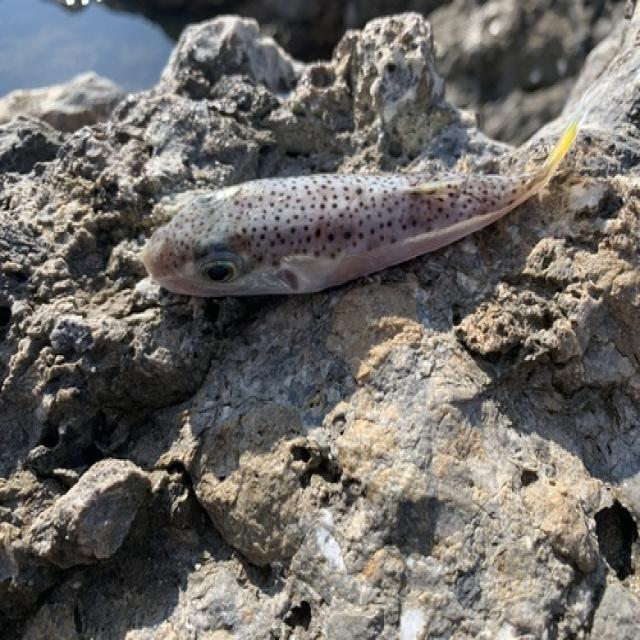Balik: (143, 96, 587, 296)
